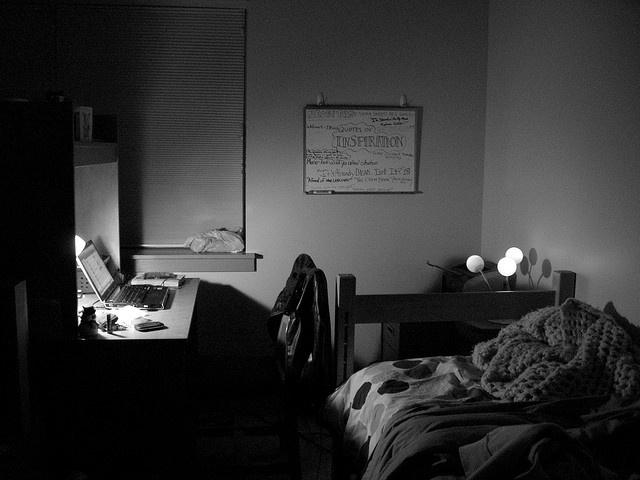Whiteboard: (301, 105, 418, 195)
